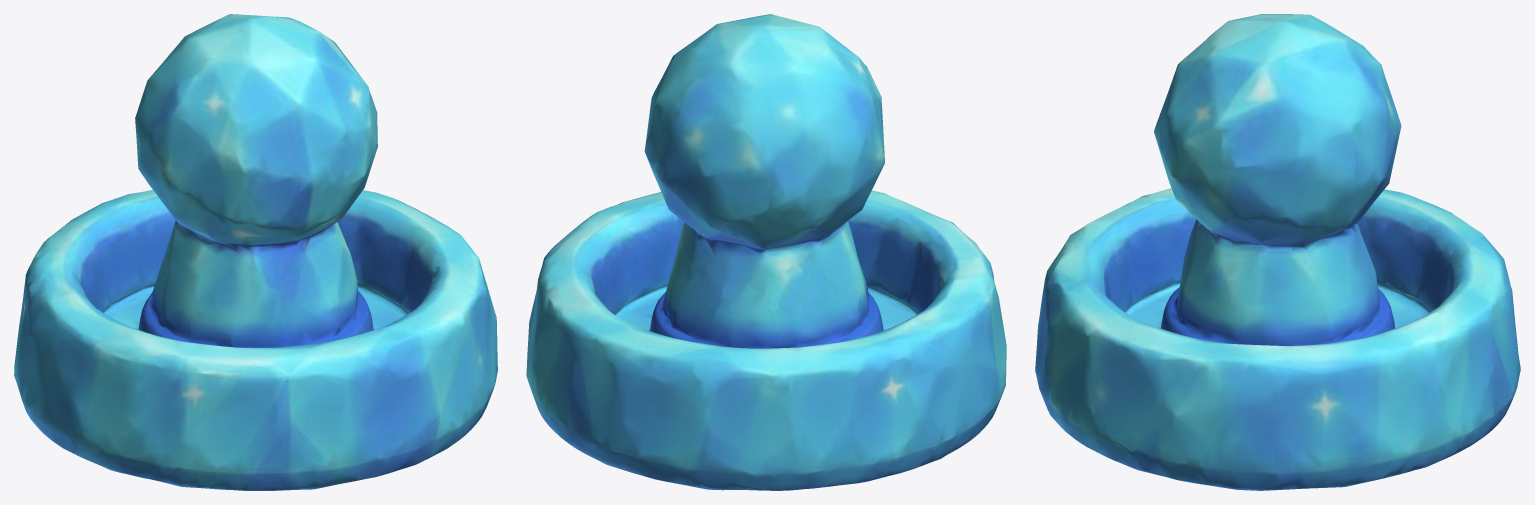
Rendered from mallet-ice.glb.
The picture shows the model from 3 angles, left to right: view 1: azimuth 30°, elevation 25°; view 2: azimuth 150°, elevation 25°; view 3: azimuth 270°, elevation 25°; orthographic projection.
Parts seen in each view (by area): view 1: tripo_node_97b5860d-78e1-4380-b8d4-de7f0831f870; view 2: tripo_node_97b5860d-78e1-4380-b8d4-de7f0831f870; view 3: tripo_node_97b5860d-78e1-4380-b8d4-de7f0831f870.
Part boxes in pixels (box(x1,y1,x2,y2)): tripo_node_97b5860d-78e1-4380-b8d4-de7f0831f870: box(14, 14, 497, 490); tripo_node_97b5860d-78e1-4380-b8d4-de7f0831f870: box(526, 14, 1006, 490); tripo_node_97b5860d-78e1-4380-b8d4-de7f0831f870: box(1035, 14, 1520, 490).
Size of the model in its own units: 1 by 0.8579 by 0.9994.
Materials: 1 (1 with a texture image).
